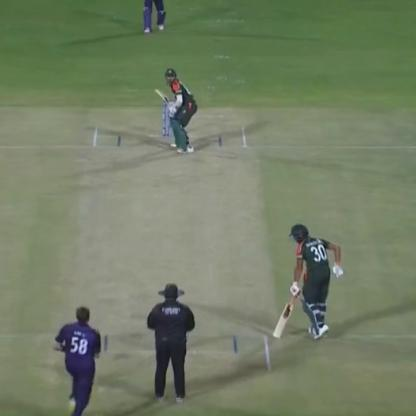bat: (271, 286, 303, 344), (151, 83, 178, 119)
pitch: (65, 114, 282, 388)
